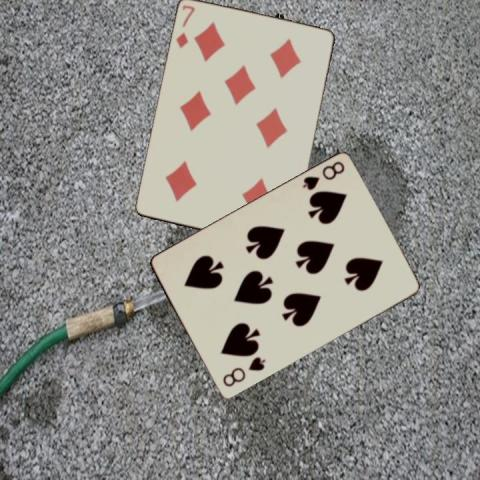7d: (173, 2, 197, 50)
8s: (220, 354, 268, 389), (299, 158, 346, 192)
